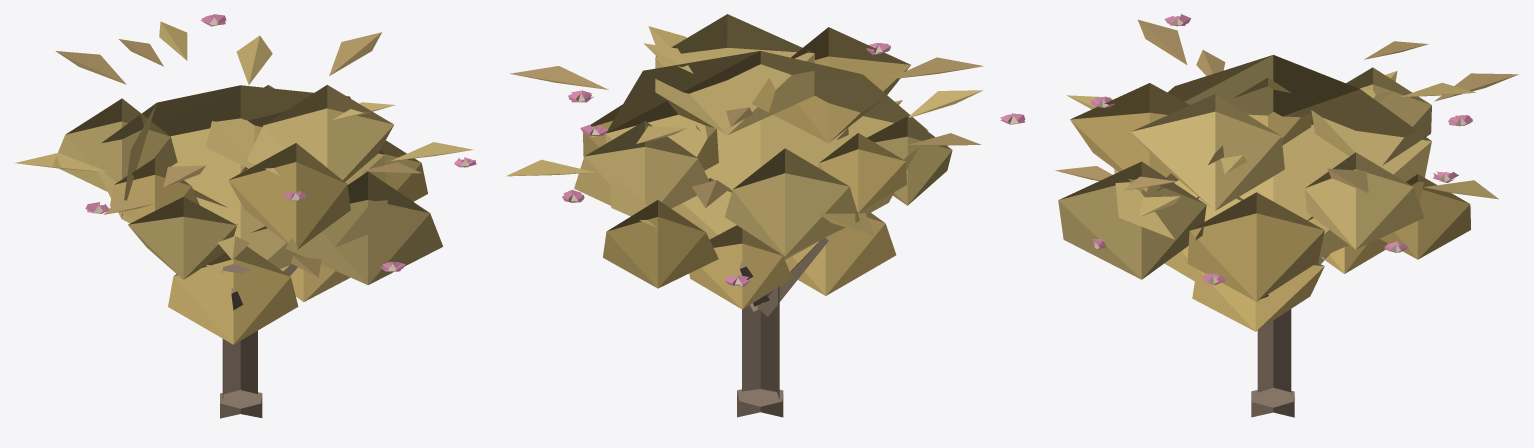
File: shu.mangguo@flowering__autumn.glb
3 views of the same model, side by side, from view 1: azimuth 30°, elevation 25°; view 2: azimuth 150°, elevation 25°; view 3: azimuth 270°, elevation 25° (orthographic). The views are drawn at different scales.
Parts seen in each view (by area): view 1: shu.mangguo@flowering__autumn; view 2: shu.mangguo@flowering__autumn; view 3: shu.mangguo@flowering__autumn.
Boxes of the visible parts, x1=… form: shu.mangguo@flowering__autumn: x1=15, y1=14, x2=476, y2=418; shu.mangguo@flowering__autumn: x1=506, y1=14, x2=1025, y2=417; shu.mangguo@flowering__autumn: x1=1055, y1=14, x2=1518, y2=417.
Bounding box in the file's own units: 14.05 × 11.4 × 13.39.
